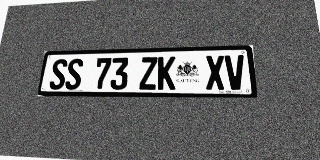3: (110, 57, 129, 90)
7: (93, 58, 112, 90)
K: (157, 56, 176, 90)
S: (64, 59, 84, 90), (49, 59, 68, 90)
V: (224, 55, 246, 90)
X: (205, 55, 225, 90)
Z: (139, 57, 158, 90)
